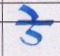e_matra: (19, 4, 40, 21)
